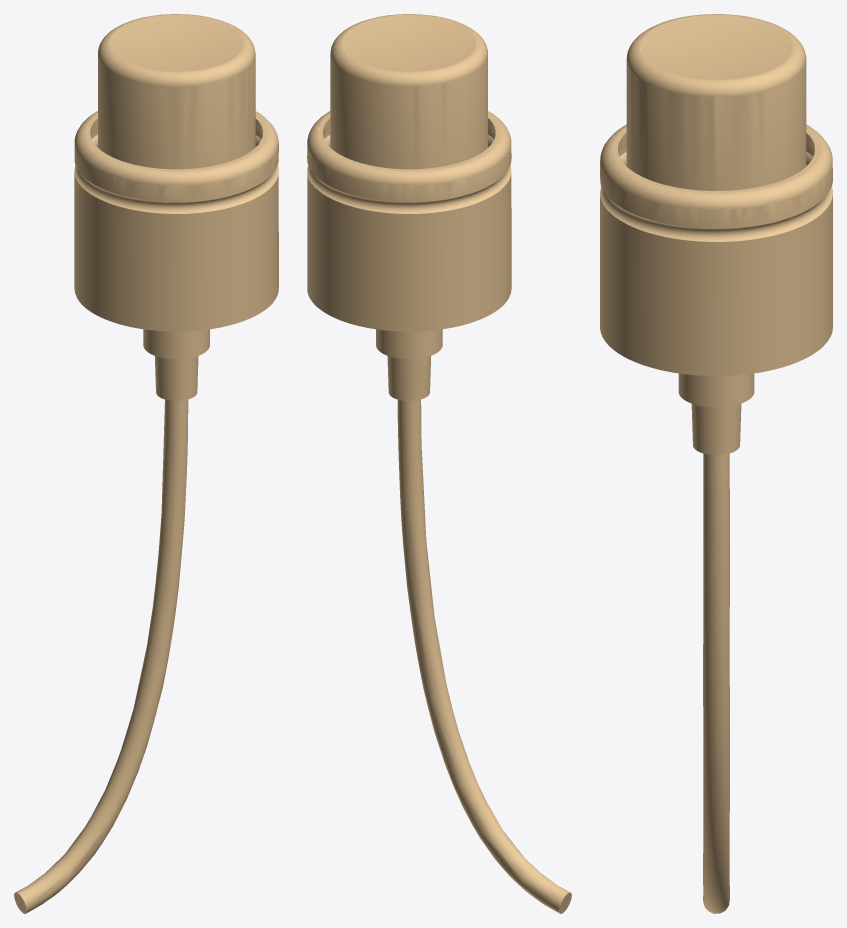
File: bottle-pump.glb
The picture shows the model from 3 angles, left to right: view 1: azimuth 30°, elevation 25°; view 2: azimuth 150°, elevation 25°; view 3: azimuth 270°, elevation 25°; orthographic projection. The views are drawn at different scales.
Parts seen in each view (by area): view 1: Pump 31MS-15 FEA, Tube; view 2: Pump 31MS-15 FEA, Tube; view 3: Pump 31MS-15 FEA, Tube.
Boxes of the visible parts, x1,y1,x2,y2 form: Pump 31MS-15 FEA: (74, 14, 278, 400); Tube: (14, 399, 188, 913); Pump 31MS-15 FEA: (307, 14, 511, 400); Tube: (397, 399, 571, 913); Pump 31MS-15 FEA: (600, 14, 832, 455); Tube: (703, 453, 729, 913).
Size of the model in its own units: 0.0241 by 0.0775 by 0.0173.
